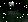person: (8, 4, 17, 15)
